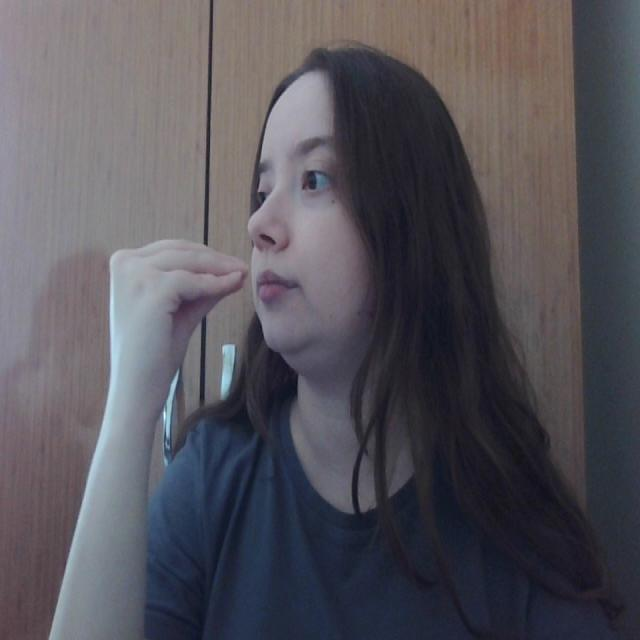Yemek: (108, 241, 292, 319)
